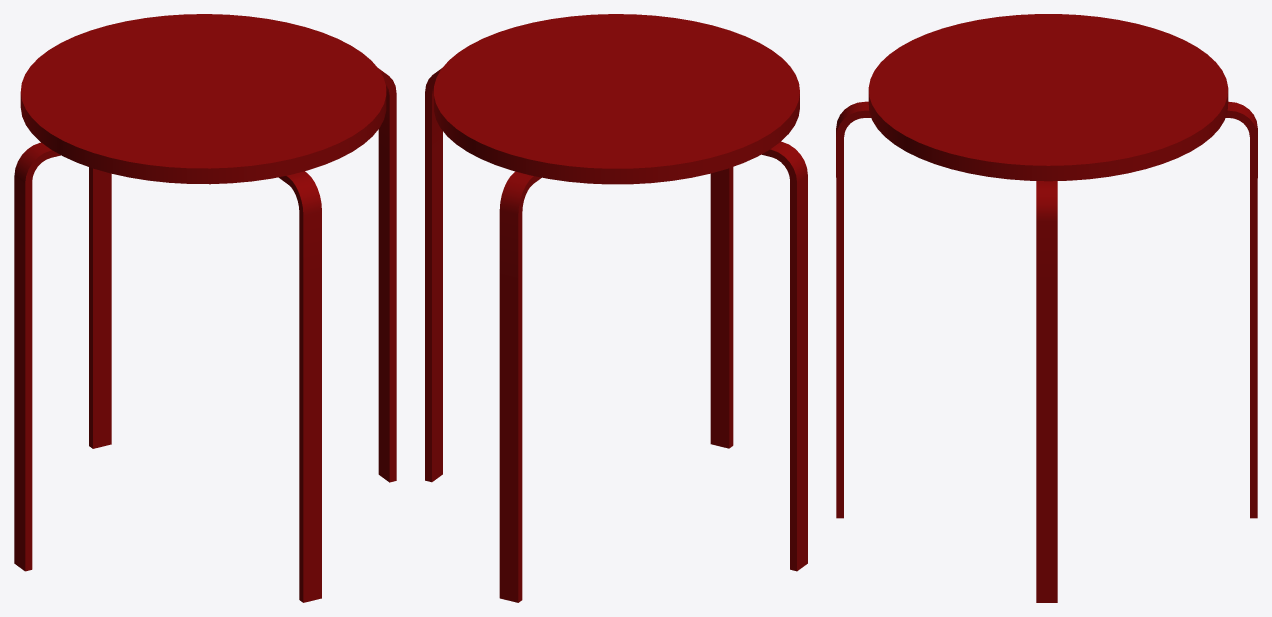
Rendered from stool.glb.
3 views of the same model, side by side, from view 1: azimuth 30°, elevation 25°; view 2: azimuth 150°, elevation 25°; view 3: azimuth 270°, elevation 25° (orthographic).
Visible parts, largest first — view 1: IKEA-Frosta_Stool-3D; view 2: IKEA-Frosta_Stool-3D; view 3: IKEA-Frosta_Stool-3D.
Part boxes in pixels (left/top/right/bottom): IKEA-Frosta_Stool-3D: left=14, top=14, right=396, bottom=602; IKEA-Frosta_Stool-3D: left=425, top=14, right=807, bottom=602; IKEA-Frosta_Stool-3D: left=836, top=14, right=1257, bottom=602.
Size of the model in its own units: 0.407 by 0.451 by 0.407.
1 material, 1 textured.
